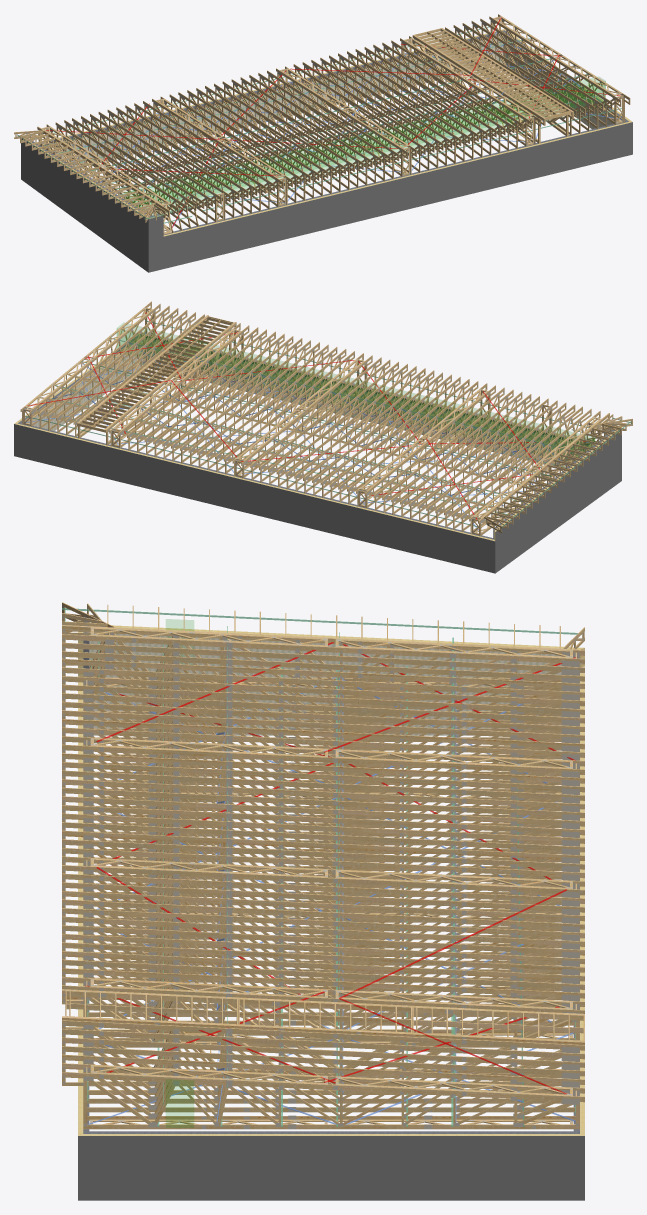
3 views of the same model, one above another, from view 1: azimuth 30°, elevation 25°; view 2: azimuth 150°, elevation 25°; view 3: azimuth 270°, elevation 25° (orthographic). The views are drawn at different scales.
Parts seen in each view (by area): view 1: skfb_offset; view 2: skfb_offset; view 3: skfb_offset.
Part boxes in pixels (box(x1,y1,x2,y2)): skfb_offset: box(14, 14, 632, 272); skfb_offset: box(14, 301, 632, 573); skfb_offset: box(62, 602, 584, 1200).
Size of the model in its own units: 44372 by 5278 by 20572.
Materials: 10 (6 with a texture image).
